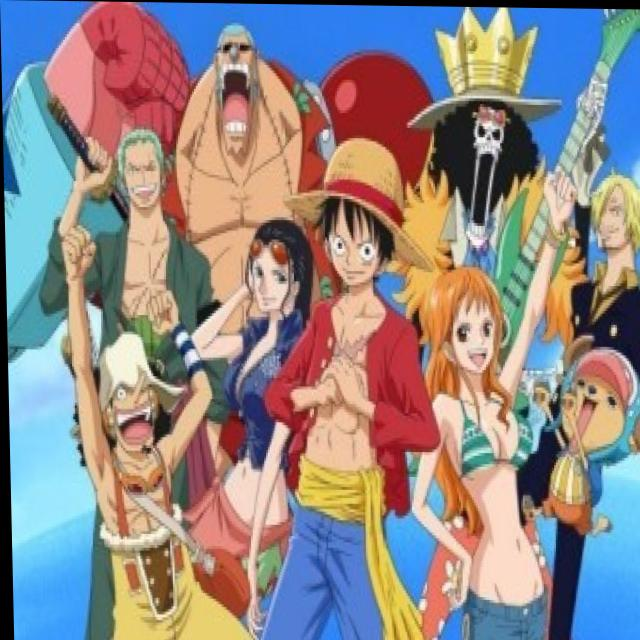Blook: (426, 13, 552, 262)
Chyopa: (522, 327, 640, 548)
Franky: (206, 20, 268, 161)
Luffy: (310, 131, 425, 296)
Nami: (420, 260, 519, 384)
NicoRobin: (231, 211, 315, 341)
Sangdi: (579, 170, 640, 262)
Usopp: (84, 322, 172, 466)
Zoro: (103, 120, 175, 217)
